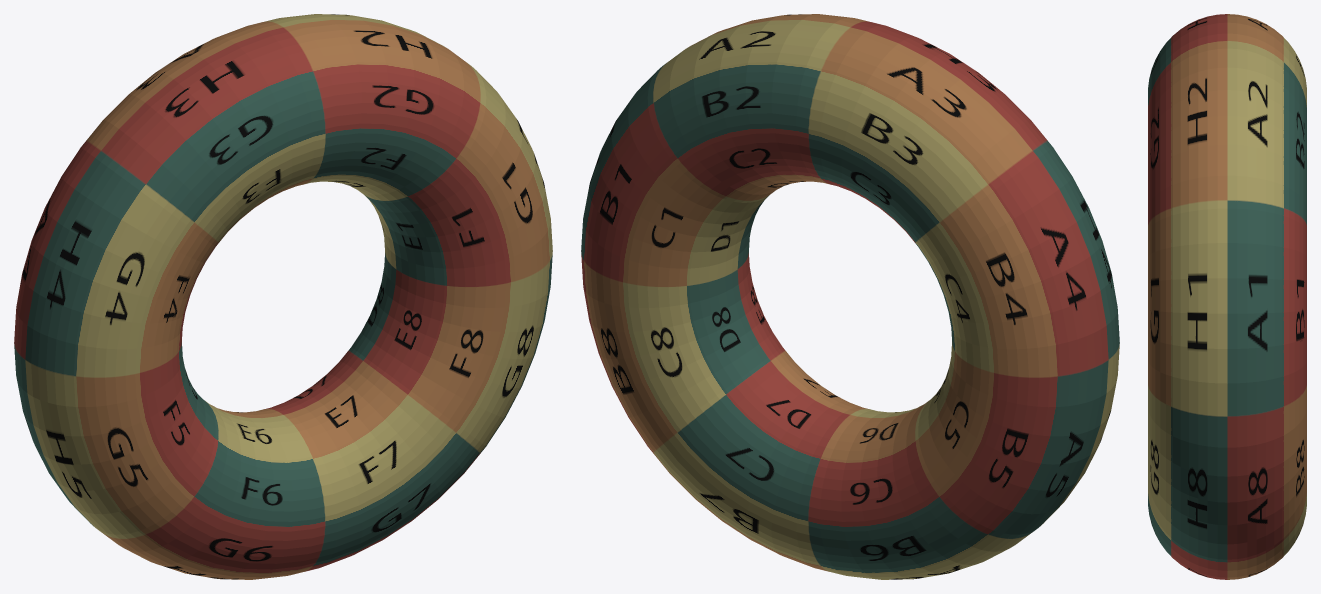
Rendered from texture_torus_R9_r16.glb.
3 views of the same model, side by side, from view 1: azimuth 30°, elevation 25°; view 2: azimuth 150°, elevation 25°; view 3: azimuth 270°, elevation 25° (orthographic). The views are drawn at different scales.
Visible parts, largest first — view 1: world; view 2: world; view 3: world.
Part boxes in pixels (<box>): world: <box>14,14,552,579</box>; world: <box>581,14,1119,579</box>; world: <box>1148,14,1306,579</box>.
Size of the model in its own units: 22.27 by 22.22 by 6.25.
Materials: 1 (1 with a texture image).
